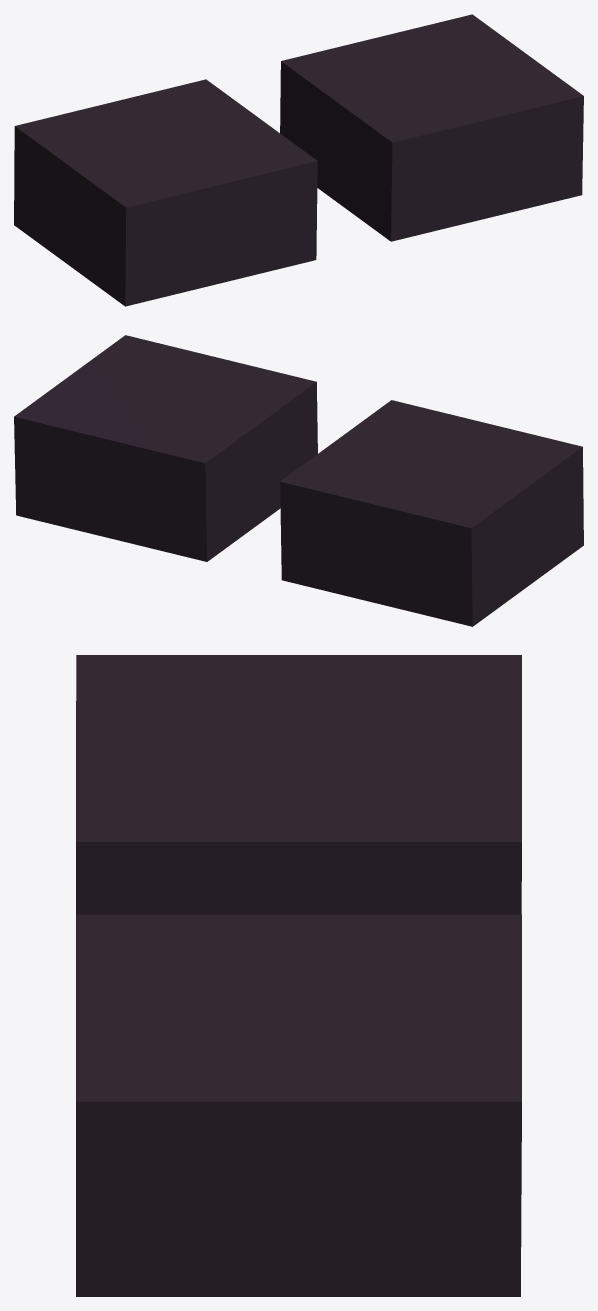
The model's file is Building_RoofPart03.fbx.
The picture shows the model from 3 angles, top to bottom: view 1: azimuth 30°, elevation 25°; view 2: azimuth 150°, elevation 25°; view 3: azimuth 270°, elevation 25°; orthographic projection. The views are drawn at different scales.
Visible parts, largest first — view 1: Building_roofpart03; view 2: Building_roofpart03; view 3: Building_roofpart03.
Part boxes in pixels (x1,y1,x2,y2): Building_roofpart03: (14,14,583,306); Building_roofpart03: (14,335,583,626); Building_roofpart03: (76,655,521,1296).
Size of the model in its own units: 132 by 27.11 by 55.6.
